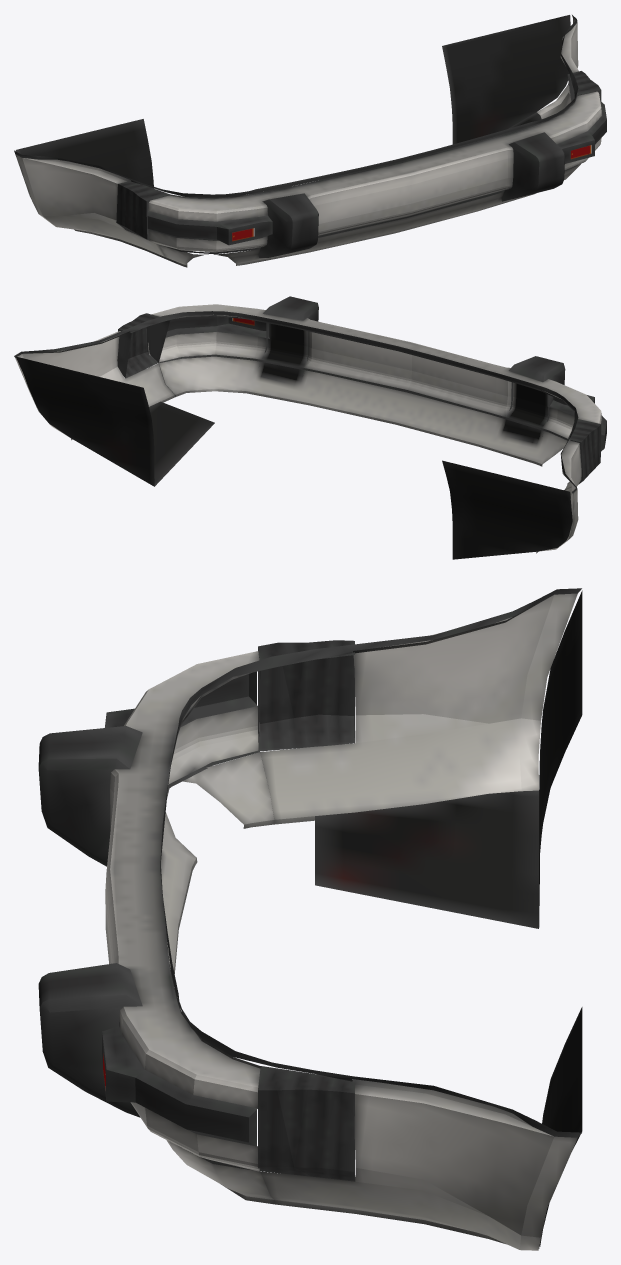
Rendered from vehicle_boltz_930turbo_RearBumperWM.fbx.
3 renders of one model, top to bottom at view 1: azimuth 30°, elevation 25°; view 2: azimuth 150°, elevation 25°; view 3: azimuth 270°, elevation 25°, orthographic. The views are drawn at different scales.
Parts seen in each view (by area): view 1: boltz_930turbo_RearBumper.001; view 2: boltz_930turbo_RearBumper.001; view 3: boltz_930turbo_RearBumper.001.
Part boxes in pixels (x1=…): boltz_930turbo_RearBumper.001: x1=14, y1=15, x2=606, y2=267; boltz_930turbo_RearBumper.001: x1=14, y1=296, x2=606, y2=559; boltz_930turbo_RearBumper.001: x1=38, y1=588, x2=582, y2=1250.
Bounding box in the file's own units: 2.18 × 0.4017 × 0.9191.
